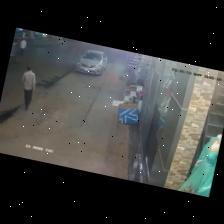person: (21, 66, 35, 109), (19, 39, 26, 55)
